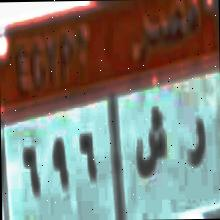6: (78, 126, 100, 188), (21, 142, 42, 198)
9: (50, 134, 69, 197)
raa: (186, 108, 207, 171)
sheen: (134, 107, 166, 181)
